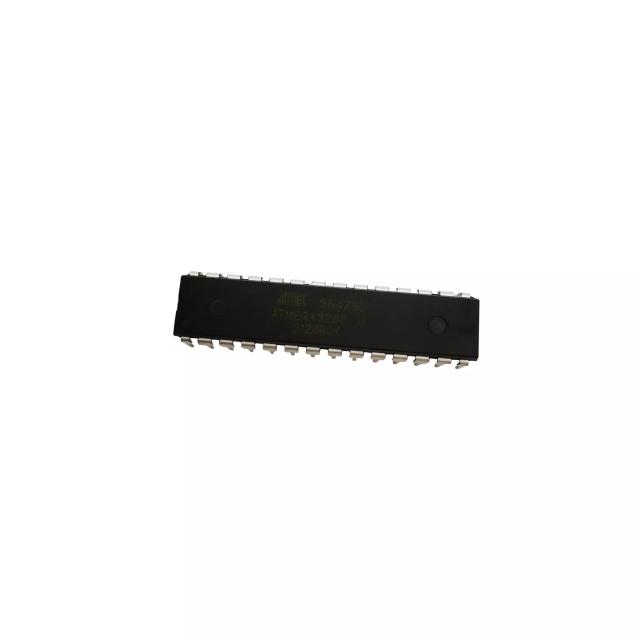atmega: (171, 269, 482, 371)
